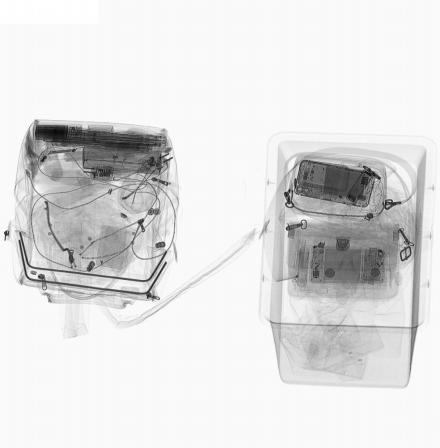Powerbank: (310, 247, 387, 283)
